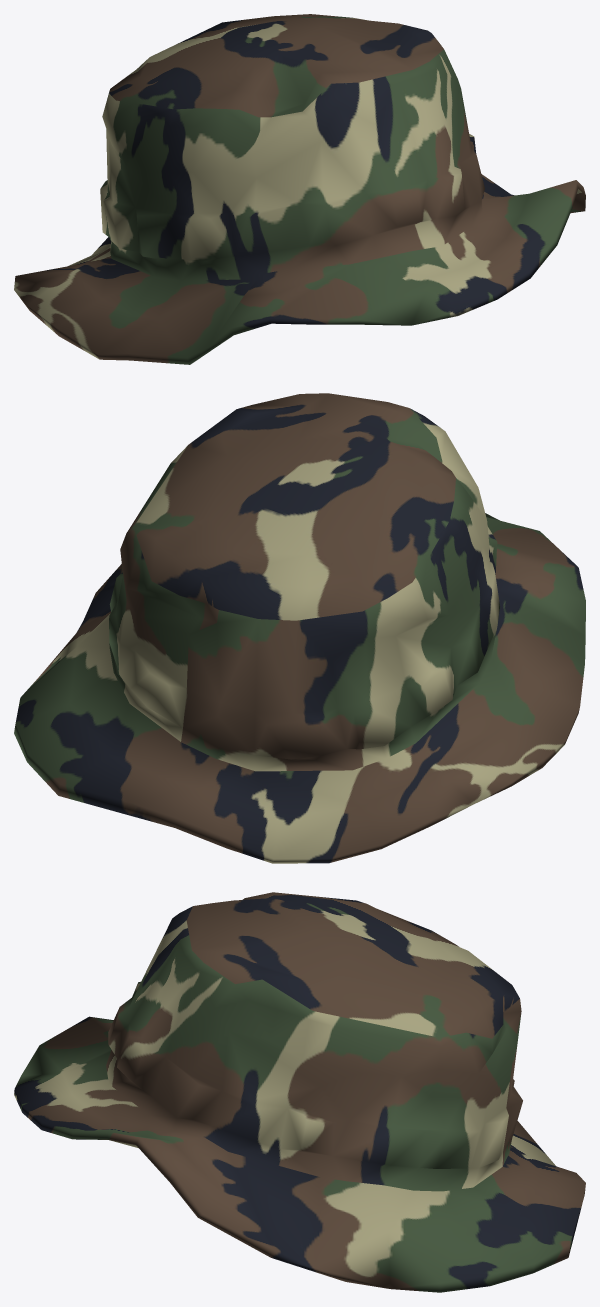
The model's file is Hat 9.FBX.
3 views of the same model, one above another, from view 1: azimuth 30°, elevation 25°; view 2: azimuth 150°, elevation 25°; view 3: azimuth 270°, elevation 25° (orthographic). The views are drawn at different scales.
Visible parts, largest first — view 1: Hat 9; view 2: Hat 9; view 3: Hat 9.
Boxes of the visible parts, <box> form: Hat 9: <box>14,14,585,364</box>; Hat 9: <box>14,393,585,863</box>; Hat 9: <box>14,892,585,1292</box>.
Bounding box in the file's own units: 26.77 × 28.43 × 16.58.
Materials: 1 (1 with a texture image).
